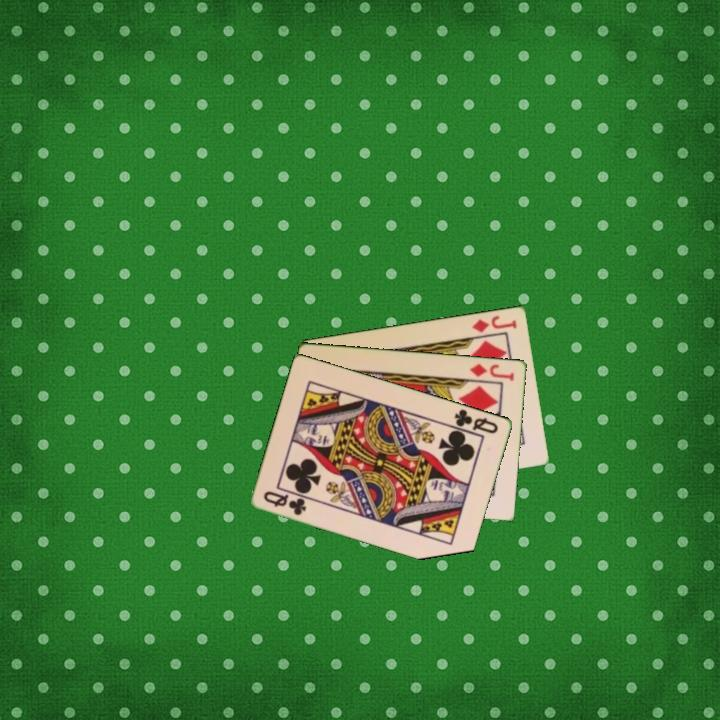Jd: (468, 312, 520, 335), (467, 360, 517, 383)
Qc: (451, 405, 502, 436), (260, 487, 310, 518)
